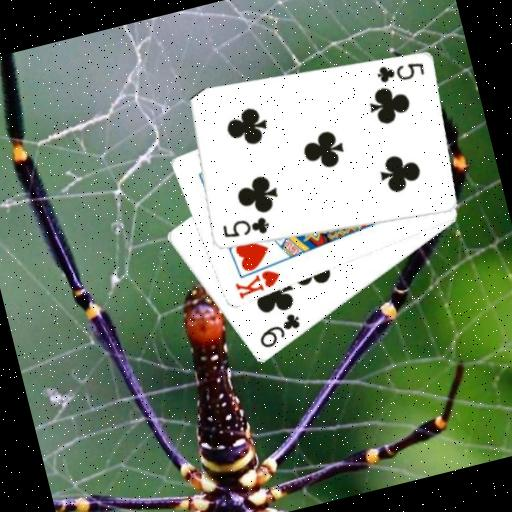5C: (371, 54, 427, 90), (217, 211, 272, 246)
9C: (252, 309, 307, 352)
KH: (230, 264, 285, 302)
